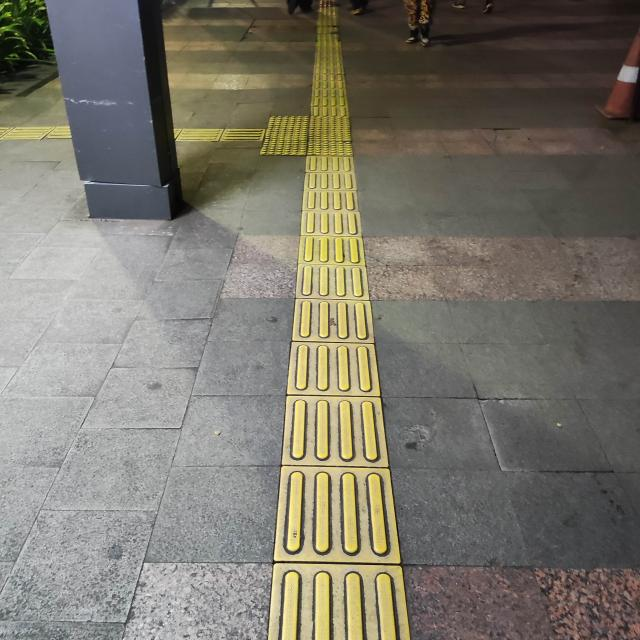lurus: (276, 149, 394, 640), (300, 15, 356, 117)
